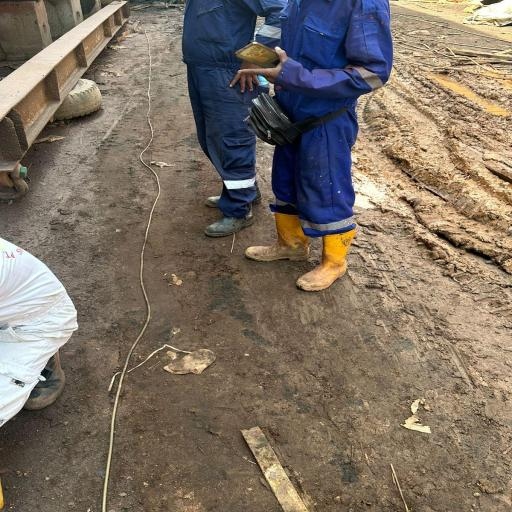safety_shoe: (293, 232, 353, 294), (245, 210, 311, 262), (202, 207, 258, 238)
